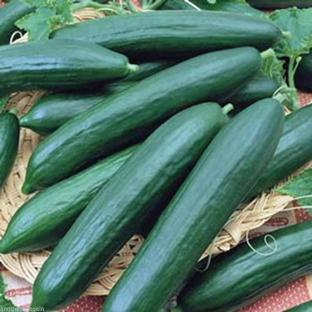Cucumber: (32, 103, 227, 310), (103, 99, 283, 311), (23, 48, 261, 193), (0, 147, 136, 253), (179, 222, 311, 311), (53, 10, 281, 58), (0, 39, 137, 92), (247, 105, 311, 199), (20, 83, 133, 133), (229, 75, 279, 110), (118, 59, 183, 82), (0, 0, 33, 44), (160, 0, 261, 14), (0, 113, 19, 187), (295, 52, 311, 91), (286, 301, 311, 311)
